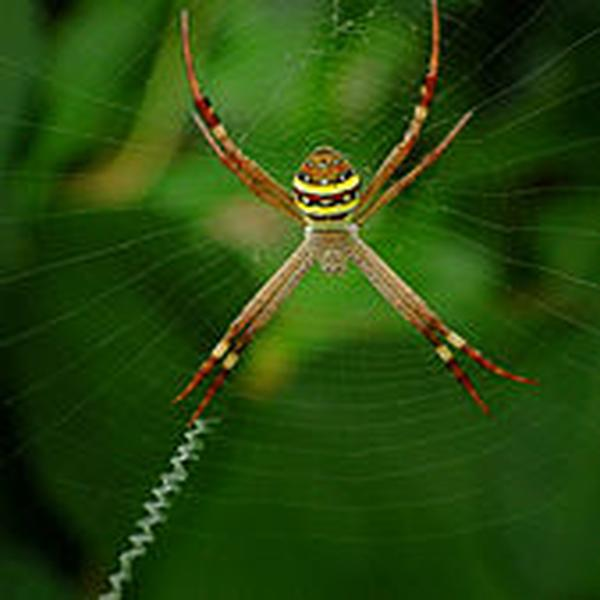St Andrew's Cross Spider: (175, 17, 531, 412)
